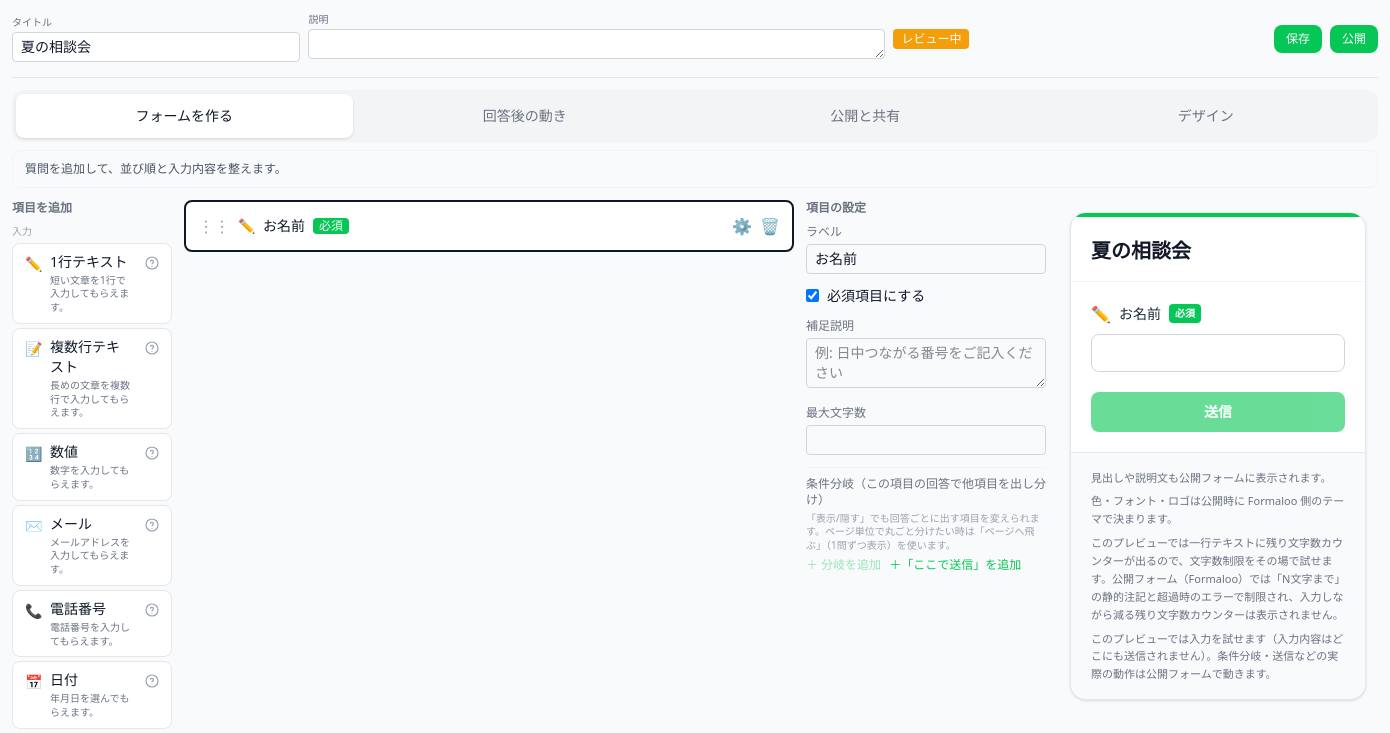
Test: internal publish confirmation › leaves the existing Formaloo review confirmation inline and without a modal
Click the button "公開" at (1354, 38), box [1330,24,1378,52]
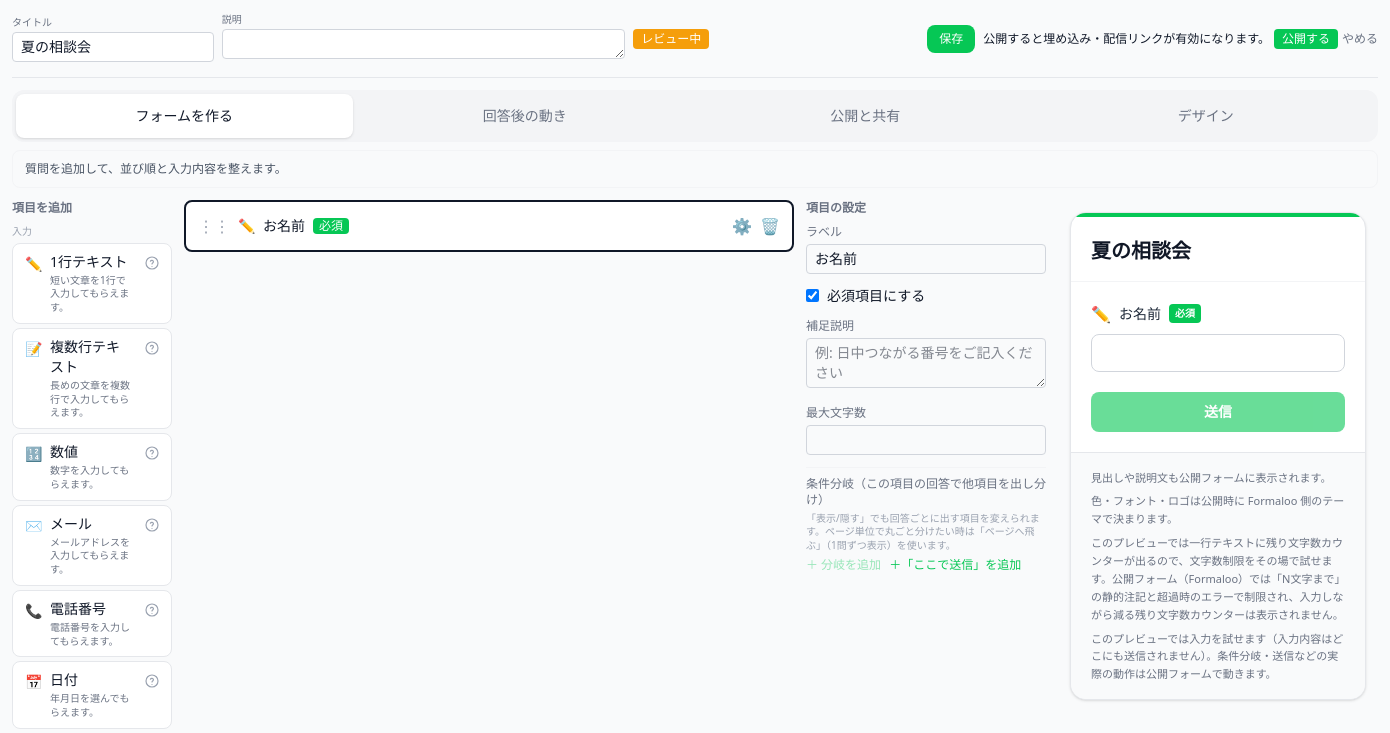
Expected: the element with test id "publish-confirm" is shown, [983,28,1378,48]
